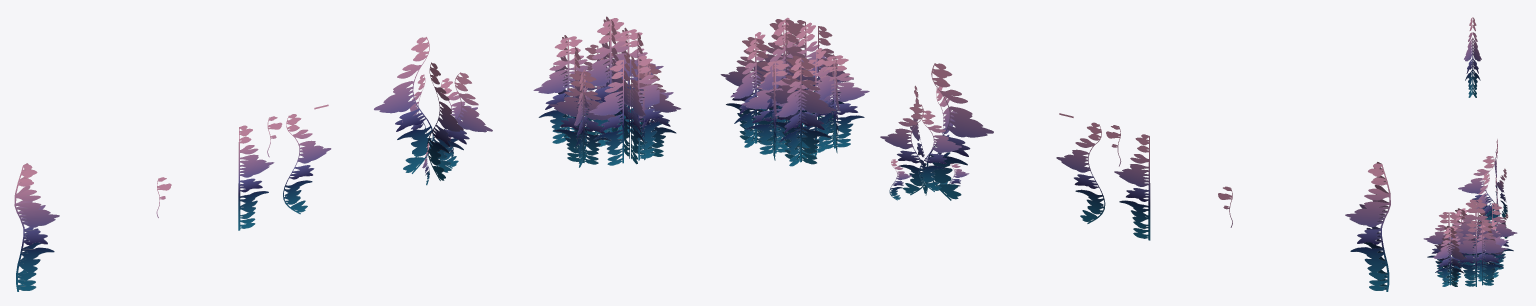
File: SM_haidai.fbx
3 views of the same model, side by side, from view 1: azimuth 30°, elevation 25°; view 2: azimuth 150°, elevation 25°; view 3: azimuth 270°, elevation 25° (orthographic). The views are drawn at different scales.
Parts seen in each view (by area): view 1: pPlane65, pPlane106, pPlane74, pPlane86, pPlane84, pPlane66, pPlane77, pPlane70, pPlane101, pPlane90, pPlane99, pPlane93 (+7 smaller); view 2: pPlane65, pPlane106, pPlane74, pPlane77, pPlane92, pPlane71, pPlane78, pPlane83, pPlane73, pPlane98, pPlane79, pPlane76 (+9 smaller); view 3: pPlane83, pPlane81, pPlane106, pPlane70, pPlane93, pPlane95, pPlane78, pPlane85, pPlane102, pPlane103, pPlane96, pPlane66 (+9 smaller).
Part boxes in pixels (bbox=[...]): pPlane65: bbox=[238, 104, 331, 230]; pPlane106: bbox=[14, 163, 59, 291]; pPlane74: bbox=[374, 37, 433, 173]; pPlane86: bbox=[588, 59, 623, 165]; pPlane84: bbox=[638, 55, 673, 160]; pPlane66: bbox=[430, 72, 492, 172]; pPlane77: bbox=[533, 38, 568, 143]; pPlane70: bbox=[427, 62, 463, 180]; pPlane101: bbox=[577, 21, 611, 146]; pPlane90: bbox=[583, 71, 616, 164]; pPlane99: bbox=[549, 70, 582, 162]; pPlane93: bbox=[648, 64, 680, 156]; pPlane65: bbox=[1056, 113, 1150, 240]; pPlane106: bbox=[1345, 162, 1390, 291]; pPlane74: bbox=[927, 63, 993, 200]; pPlane77: bbox=[800, 57, 836, 164]; pPlane92: bbox=[834, 55, 869, 148]; pPlane71: bbox=[880, 103, 925, 195]; pPlane78: bbox=[775, 58, 801, 166]; pPlane83: bbox=[730, 39, 756, 147]; pPlane73: bbox=[918, 110, 961, 191]; pPlane98: bbox=[741, 61, 775, 154]; pPlane79: bbox=[816, 48, 841, 154]; pPlane76: bbox=[765, 55, 800, 161]; pPlane83: bbox=[1482, 219, 1507, 285]; pPlane81: bbox=[1451, 221, 1476, 286]; pPlane106: bbox=[1464, 17, 1481, 97]; pPlane70: bbox=[1458, 156, 1494, 226]; pPlane93: bbox=[1432, 227, 1450, 286]; pPlane95: bbox=[1450, 227, 1466, 286]; pPlane78: bbox=[1492, 203, 1517, 269]; pPlane85: bbox=[1423, 212, 1448, 277]; pPlane102: bbox=[1476, 199, 1501, 277]; pPlane103: bbox=[1456, 199, 1475, 277]; pPlane96: bbox=[1473, 225, 1486, 281]; pPlane66: bbox=[1475, 172, 1499, 226].
Size of the model in its own units: 216 by 46.58 by 45.43.
